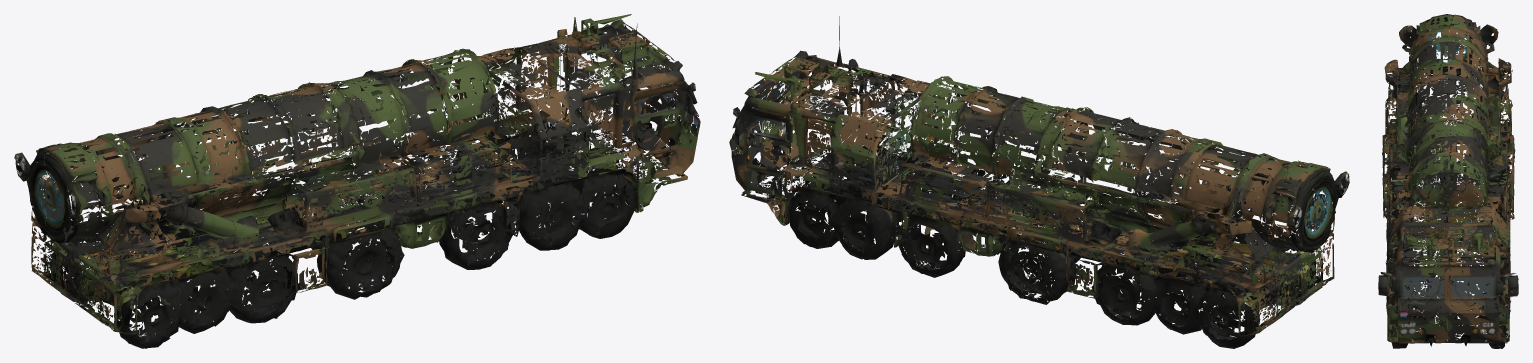
Rendered from hyunmoo5irbmlauncher.glb.
The picture shows the model from 3 angles, left to right: view 1: azimuth 30°, elevation 25°; view 2: azimuth 150°, elevation 25°; view 3: azimuth 270°, elevation 25°; orthographic projection. The views are drawn at different scales.
Visible parts, largest first — view 1: tripo_node_2ef6c47e_tripo_mat_2ef6c47e_0.007, tripo_node_2ef6c47e, tripo_node_2ef6c47e_tripo_mat_2ef6c47e_0.013, tripo_node_2ef6c47e_tripo_mat_2ef6c47e_0.011, tripo_node_2ef6c47e_tripo_mat_2ef6c47e_0.003, tripo_node_2ef6c47e_tripo_mat_2ef6c47e_0.001, tripo_node_2ef6c47e_tripo_mat_2ef6c47e_0.004, tripo_node_2ef6c47e_tripo_mat_2ef6c47e_0.008, tripo_node_2ef6c47e_tripo_mat_2ef6c47e_0.002, tripo_node_2ef6c47e_tripo_mat_2ef6c47e_0.014, tripo_node_2ef6c47e_tripo_mat_2ef6c47e_0.005, tripo_node_2ef6c47e_tripo_mat_2ef6c47e_0.009 (+4 smaller); view 2: tripo_node_2ef6c47e_tripo_mat_2ef6c47e_0.008, tripo_node_2ef6c47e_tripo_mat_2ef6c47e_0.014, tripo_node_2ef6c47e_tripo_mat_2ef6c47e_0.004, tripo_node_2ef6c47e_tripo_mat_2ef6c47e_0.001, tripo_node_2ef6c47e_tripo_mat_2ef6c47e_0.003, tripo_node_2ef6c47e, tripo_node_2ef6c47e_tripo_mat_2ef6c47e_0.009, tripo_node_2ef6c47e_tripo_mat_2ef6c47e_0.005, tripo_node_2ef6c47e_tripo_mat_2ef6c47e_0.010, tripo_node_2ef6c47e_tripo_mat_2ef6c47e_0.011, tripo_node_2ef6c47e_tripo_mat_2ef6c47e_0.006, tripo_node_2ef6c47e_tripo_mat_2ef6c47e_0.007 (+4 smaller); view 3: tripo_node_2ef6c47e, tripo_node_2ef6c47e_tripo_mat_2ef6c47e_0.001, tripo_node_2ef6c47e_tripo_mat_2ef6c47e_0.008, tripo_node_2ef6c47e_tripo_mat_2ef6c47e_0.014, tripo_node_2ef6c47e_tripo_mat_2ef6c47e_0.004, tripo_node_2ef6c47e_tripo_mat_2ef6c47e_0.003, tripo_node_2ef6c47e_tripo_mat_2ef6c47e_0.007, tripo_node_2ef6c47e_tripo_mat_2ef6c47e_0.002, tripo_node_2ef6c47e_tripo_mat_2ef6c47e_0.011, tripo_node_2ef6c47e_tripo_mat_2ef6c47e_0.013, tripo_node_2ef6c47e_tripo_mat_2ef6c47e_0.009, tripo_node_2ef6c47e_tripo_mat_2ef6c47e_0.012 (+4 smaller).
Part boxes in pixels (x1=…): tripo_node_2ef6c47e_tripo_mat_2ef6c47e_0.007: x1=63, y1=81, x2=395, y2=283; tripo_node_2ef6c47e: x1=507, y1=14, x2=700, y2=168; tripo_node_2ef6c47e_tripo_mat_2ef6c47e_0.013: x1=205, y1=189, x2=395, y2=323; tripo_node_2ef6c47e_tripo_mat_2ef6c47e_0.011: x1=83, y1=121, x2=262, y2=348; tripo_node_2ef6c47e_tripo_mat_2ef6c47e_0.003: x1=397, y1=48, x2=629, y2=208; tripo_node_2ef6c47e_tripo_mat_2ef6c47e_0.001: x1=459, y1=31, x2=698, y2=206; tripo_node_2ef6c47e_tripo_mat_2ef6c47e_0.004: x1=258, y1=57, x2=538, y2=238; tripo_node_2ef6c47e_tripo_mat_2ef6c47e_0.008: x1=14, y1=113, x2=214, y2=242; tripo_node_2ef6c47e_tripo_mat_2ef6c47e_0.002: x1=516, y1=77, x2=666, y2=249; tripo_node_2ef6c47e_tripo_mat_2ef6c47e_0.014: x1=176, y1=80, x2=380, y2=245; tripo_node_2ef6c47e_tripo_mat_2ef6c47e_0.005: x1=317, y1=61, x2=552, y2=264; tripo_node_2ef6c47e_tripo_mat_2ef6c47e_0.009: x1=30, y1=167, x2=242, y2=348; tripo_node_2ef6c47e_tripo_mat_2ef6c47e_0.008: x1=1147, y1=136, x2=1334, y2=277; tripo_node_2ef6c47e_tripo_mat_2ef6c47e_0.014: x1=1005, y1=105, x2=1197, y2=261; tripo_node_2ef6c47e_tripo_mat_2ef6c47e_0.004: x1=873, y1=86, x2=1086, y2=216; tripo_node_2ef6c47e_tripo_mat_2ef6c47e_0.001: x1=759, y1=71, x2=946, y2=204; tripo_node_2ef6c47e_tripo_mat_2ef6c47e_0.003: x1=788, y1=76, x2=1035, y2=259; tripo_node_2ef6c47e: x1=729, y1=16, x2=930, y2=174; tripo_node_2ef6c47e_tripo_mat_2ef6c47e_0.009: x1=1149, y1=207, x2=1331, y2=334; tripo_node_2ef6c47e_tripo_mat_2ef6c47e_0.005: x1=863, y1=91, x2=1039, y2=273; tripo_node_2ef6c47e_tripo_mat_2ef6c47e_0.010: x1=1144, y1=236, x2=1334, y2=348; tripo_node_2ef6c47e_tripo_mat_2ef6c47e_0.011: x1=1095, y1=135, x2=1333, y2=325; tripo_node_2ef6c47e_tripo_mat_2ef6c47e_0.006: x1=893, y1=149, x2=1094, y2=277; tripo_node_2ef6c47e_tripo_mat_2ef6c47e_0.007: x1=961, y1=105, x2=1349, y2=304; tripo_node_2ef6c47e: x1=1378, y1=206, x2=1518, y2=329; tripo_node_2ef6c47e_tripo_mat_2ef6c47e_0.001: x1=1387, y1=206, x2=1511, y2=346; tripo_node_2ef6c47e_tripo_mat_2ef6c47e_0.008: x1=1397, y1=14, x2=1512, y2=146; tripo_node_2ef6c47e_tripo_mat_2ef6c47e_0.014: x1=1383, y1=73, x2=1513, y2=227; tripo_node_2ef6c47e_tripo_mat_2ef6c47e_0.004: x1=1384, y1=129, x2=1510, y2=276; tripo_node_2ef6c47e_tripo_mat_2ef6c47e_0.003: x1=1385, y1=151, x2=1510, y2=348; tripo_node_2ef6c47e_tripo_mat_2ef6c47e_0.007: x1=1384, y1=25, x2=1513, y2=244; tripo_node_2ef6c47e_tripo_mat_2ef6c47e_0.002: x1=1386, y1=277, x2=1510, y2=348; tripo_node_2ef6c47e_tripo_mat_2ef6c47e_0.011: x1=1385, y1=59, x2=1514, y2=203; tripo_node_2ef6c47e_tripo_mat_2ef6c47e_0.013: x1=1382, y1=148, x2=1476, y2=237; tripo_node_2ef6c47e_tripo_mat_2ef6c47e_0.009: x1=1382, y1=62, x2=1512, y2=180; tripo_node_2ef6c47e_tripo_mat_2ef6c47e_0.012: x1=1423, y1=160, x2=1514, y2=237.
Size of the model in its own units: 0.9997 by 0.3126 by 0.2569.
1 material, 1 textured.
